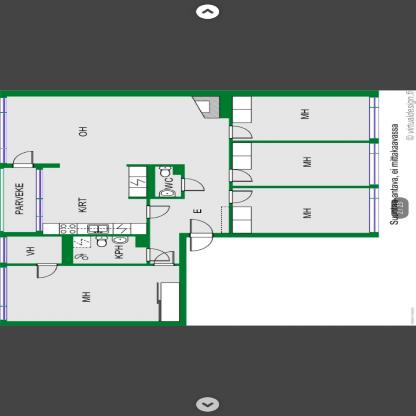door: (190, 217, 217, 259), (146, 205, 177, 222), (178, 179, 206, 196), (13, 151, 36, 170), (225, 168, 258, 181), (226, 124, 252, 138), (146, 247, 170, 262), (156, 249, 174, 268), (226, 191, 257, 202), (37, 263, 59, 278)
window: (1, 96, 12, 164), (36, 170, 46, 235), (0, 267, 10, 319), (369, 98, 379, 140), (369, 145, 379, 183), (370, 189, 378, 233), (0, 238, 7, 260)
zone: (8, 96, 233, 265), (7, 266, 179, 320), (234, 188, 368, 234), (233, 96, 369, 140), (232, 142, 370, 185), (2, 168, 36, 232), (72, 236, 148, 264), (73, 236, 145, 263), (9, 237, 59, 263), (152, 167, 180, 200)
